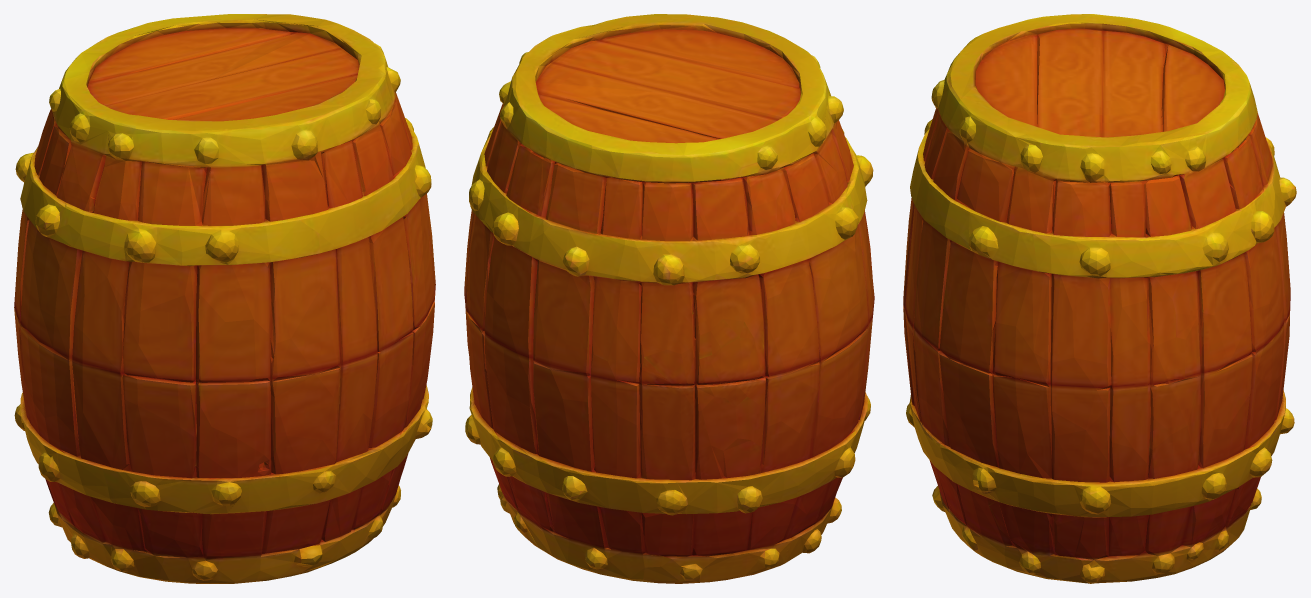
Rendered from tonneau.glb.
3 views of the same model, side by side, from view 1: azimuth 30°, elevation 25°; view 2: azimuth 150°, elevation 25°; view 3: azimuth 270°, elevation 25° (orthographic). The views are drawn at different scales.
Parts seen in each view (by area): view 1: geometry_0; view 2: geometry_0; view 3: geometry_0.
Part boxes in pixels (x1,y1,x2,y2): geometry_0: (14,14,435,583); geometry_0: (464,14,874,583); geometry_0: (903,14,1296,583).
Size of the model in its own units: 0.8559 by 0.992 by 0.7902.
Materials: 1 (1 with a texture image).
